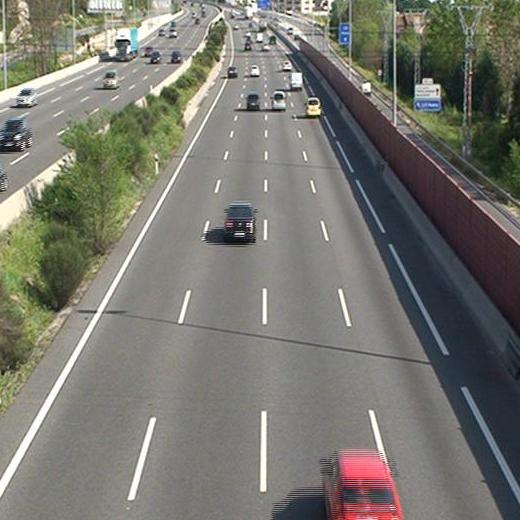car: (325, 452, 403, 520), (224, 203, 255, 239), (305, 98, 321, 117), (247, 94, 261, 110), (281, 60, 292, 71), (249, 65, 259, 75), (228, 66, 237, 77)
van: (271, 91, 285, 111), (289, 71, 302, 90)
